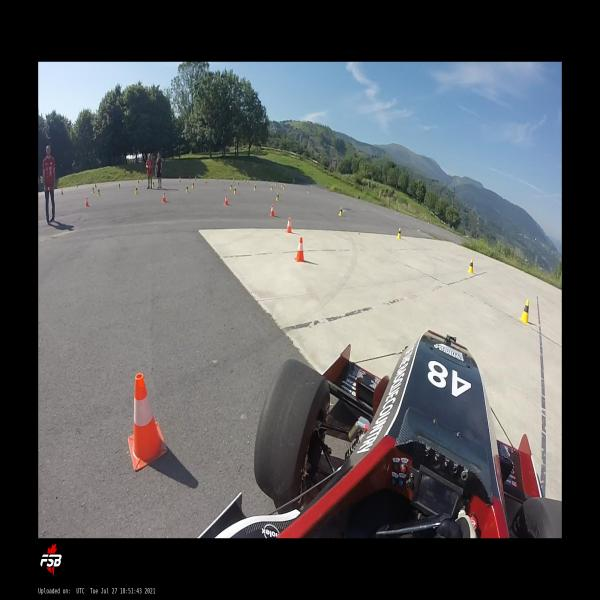orange_cone: (128, 373, 167, 471), (294, 237, 305, 262), (286, 217, 292, 233), (162, 192, 167, 203), (270, 204, 274, 216), (224, 195, 228, 205), (85, 197, 89, 206)
yellow_cone: (520, 299, 530, 324), (468, 258, 474, 274), (397, 228, 402, 239), (339, 206, 342, 216), (276, 192, 279, 201), (135, 186, 138, 194), (97, 188, 100, 195), (118, 182, 121, 189), (270, 184, 273, 191), (234, 186, 236, 195), (186, 184, 188, 192), (92, 186, 94, 193), (192, 182, 194, 188), (230, 183, 232, 189), (254, 184, 256, 190), (283, 184, 285, 189)
